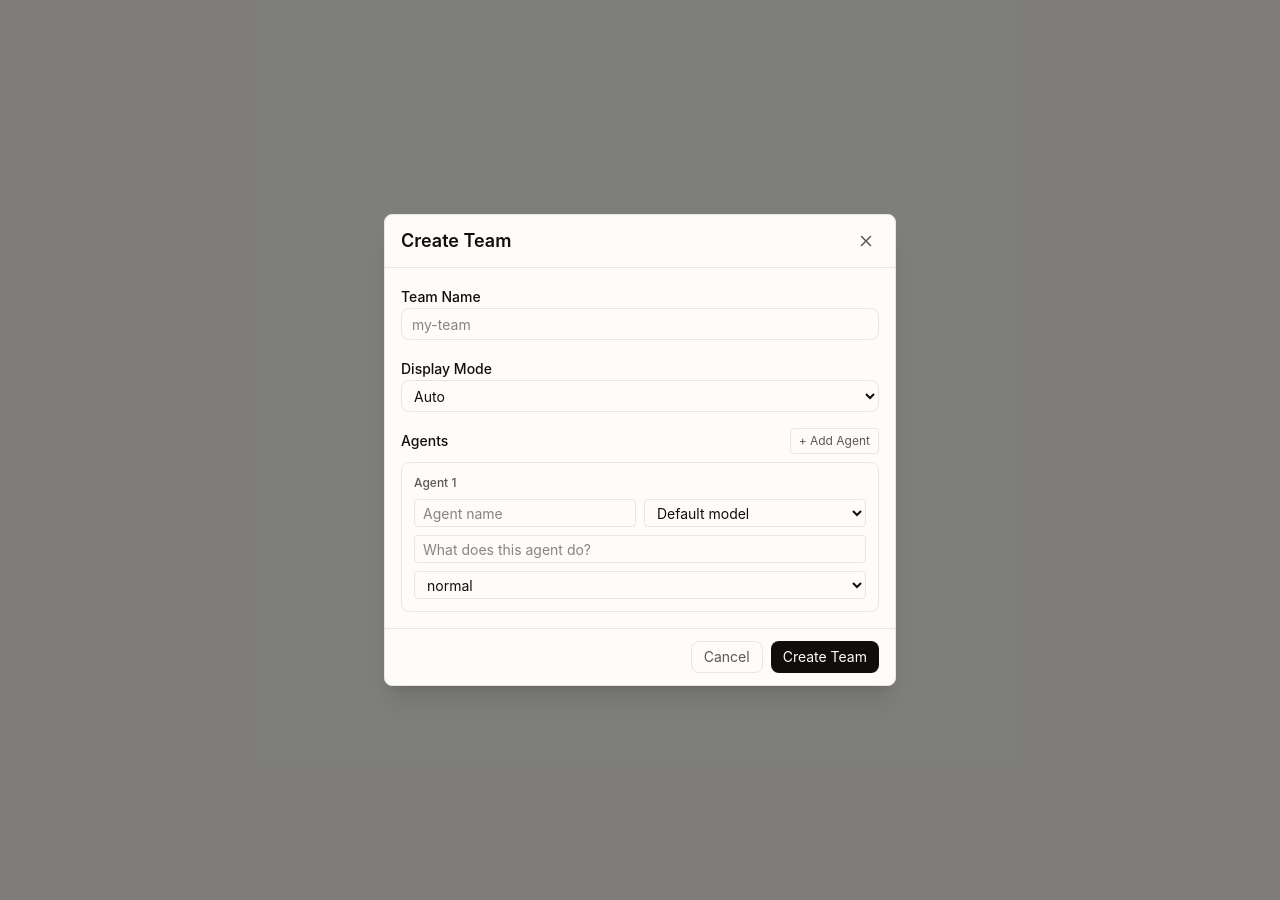
Test: TeamCreationDialog › shows error when team name is empty
Click the button with test id "team-creation-submit" at (825, 657), box left=771, top=641, right=879, bottom=673
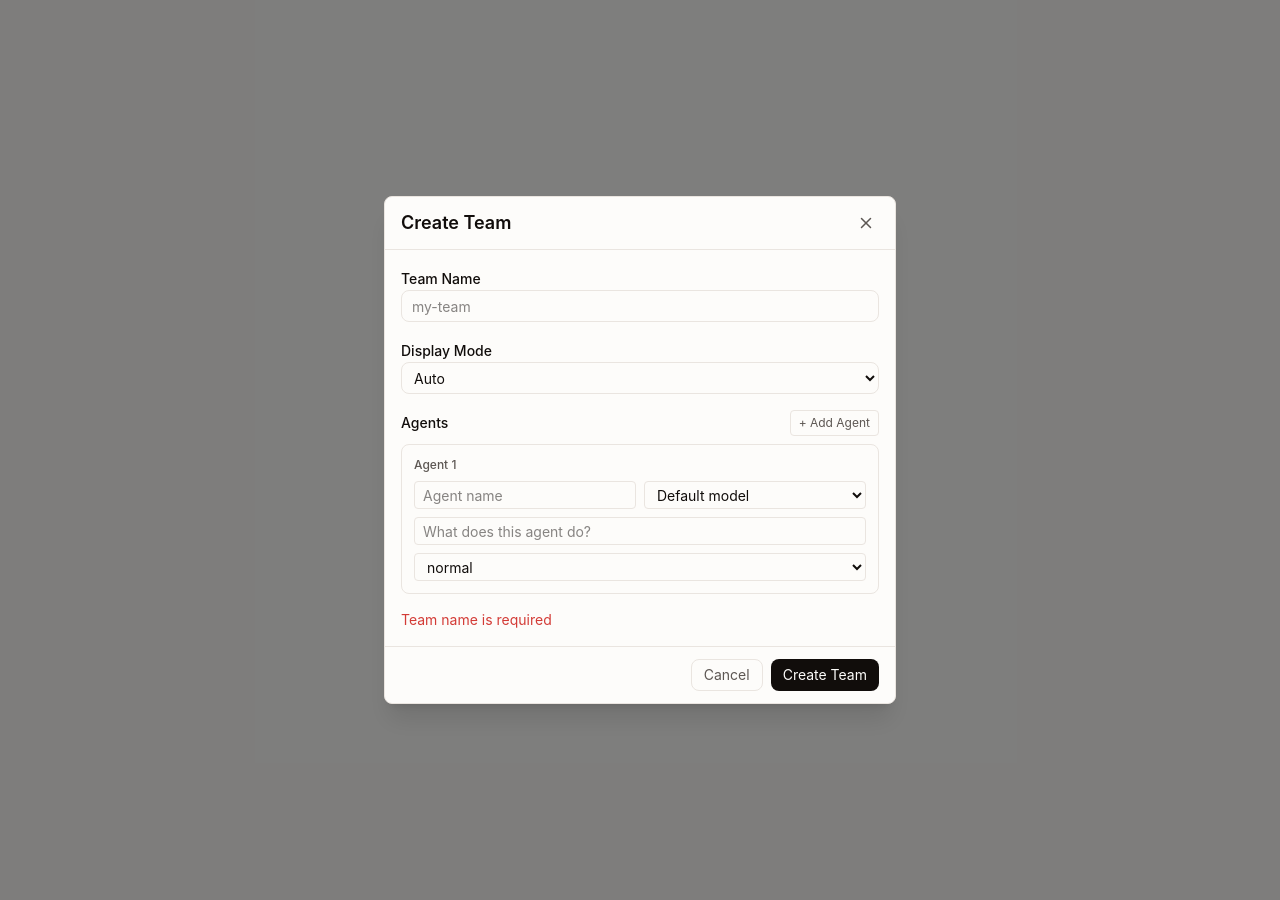
Expected: the text with test id "team-creation-error" reads "Team name is required", left=401, top=611, right=552, bottom=628
